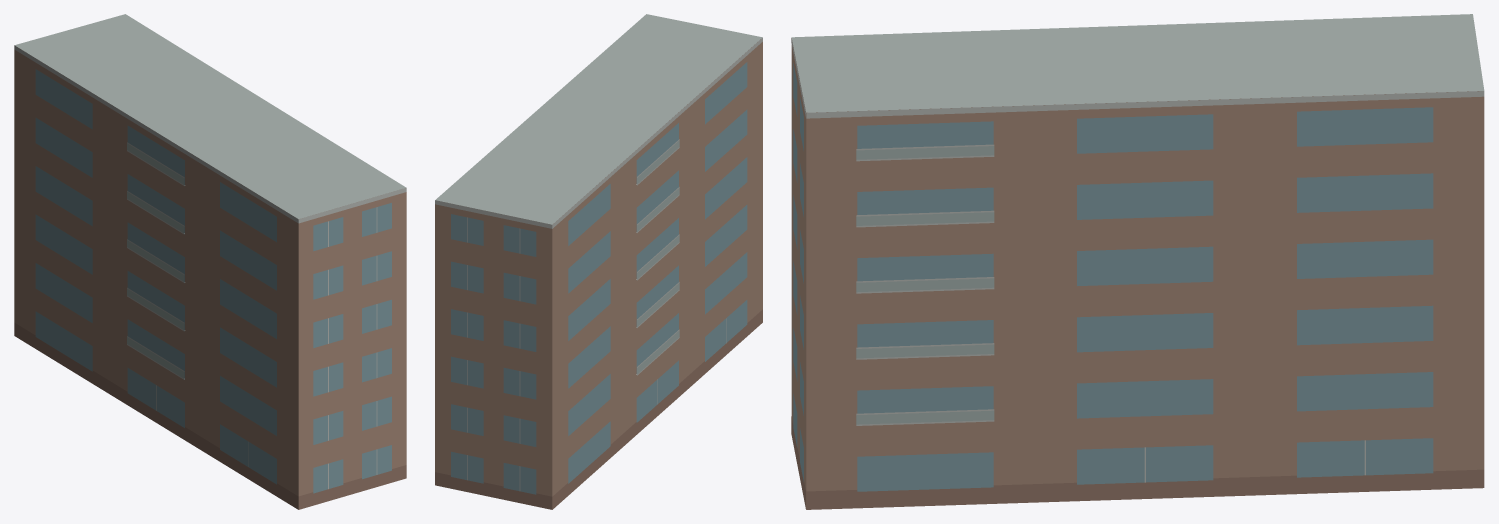
Rendered from survey-upis-32984001.glb.
The picture shows the model from 3 angles, left to right: view 1: azimuth 30°, elevation 25°; view 2: azimuth 150°, elevation 25°; view 3: azimuth 270°, elevation 25°; orthographic projection. The views are drawn at different scales.
Visible parts, largest first — view 1: survey-upis-32984001.tmp; view 2: survey-upis-32984001.tmp; view 3: survey-upis-32984001.tmp.
Boxes of the visible parts, x1,y1,x2,y2 form: survey-upis-32984001.tmp: (14, 14, 406, 509); survey-upis-32984001.tmp: (435, 14, 762, 509); survey-upis-32984001.tmp: (791, 14, 1484, 509).
Bounding box in the file's own units: 8.86 × 16.6 × 26.26.
